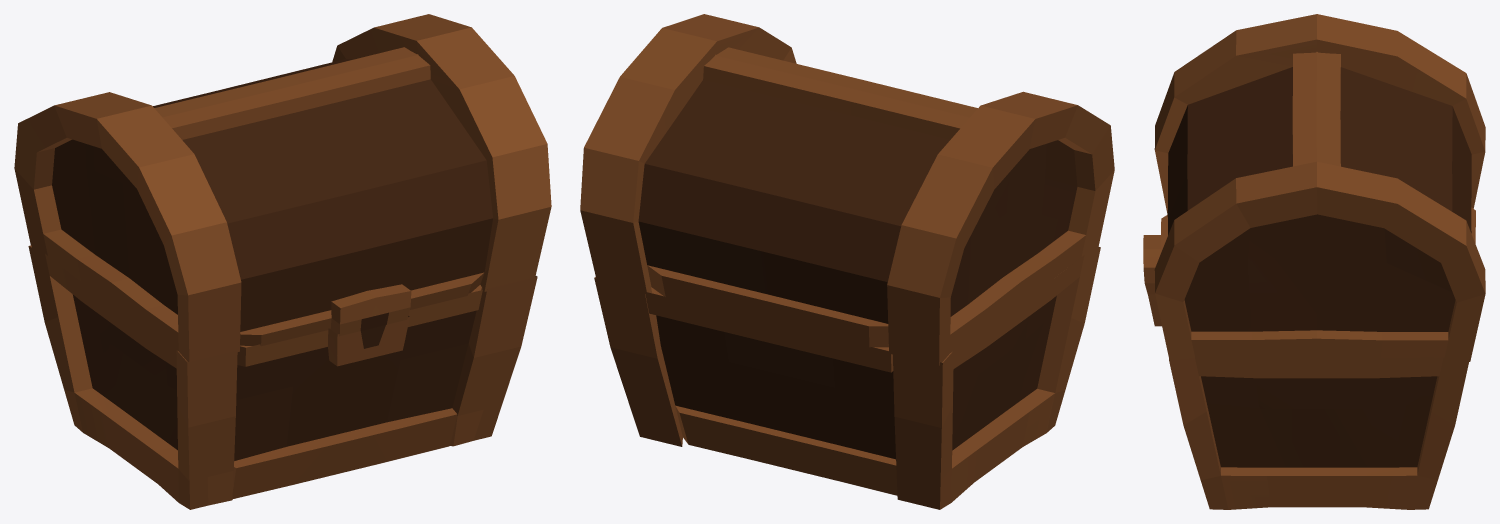
The picture shows the model from 3 angles, left to right: view 1: azimuth 30°, elevation 25°; view 2: azimuth 150°, elevation 25°; view 3: azimuth 270°, elevation 25°; orthographic projection. The views are drawn at different scales.
Parts seen in each view (by area): view 1: WoodenChestTop, WoodenChestBotton; view 2: WoodenChestTop, WoodenChestBotton; view 3: WoodenChestTop, WoodenChestBotton.
Boxes of the visible parts, x1=… form: WoodenChestTop: x1=14, y1=14, x2=551, y2=361; WoodenChestBotton: x1=28, y1=245, x2=537, y2=509; WoodenChestTop: x1=580, y1=14, x2=1114, y2=365; WoodenChestBotton: x1=594, y1=247, x2=1100, y2=509; WoodenChestTop: x1=1143, y1=14, x2=1485, y2=361; WoodenChestBotton: x1=1147, y1=293, x2=1469, y2=509.
Size of the model in its own units: 1.62 by 1.48 by 1.35.
Materials: 1 (1 with a texture image).
